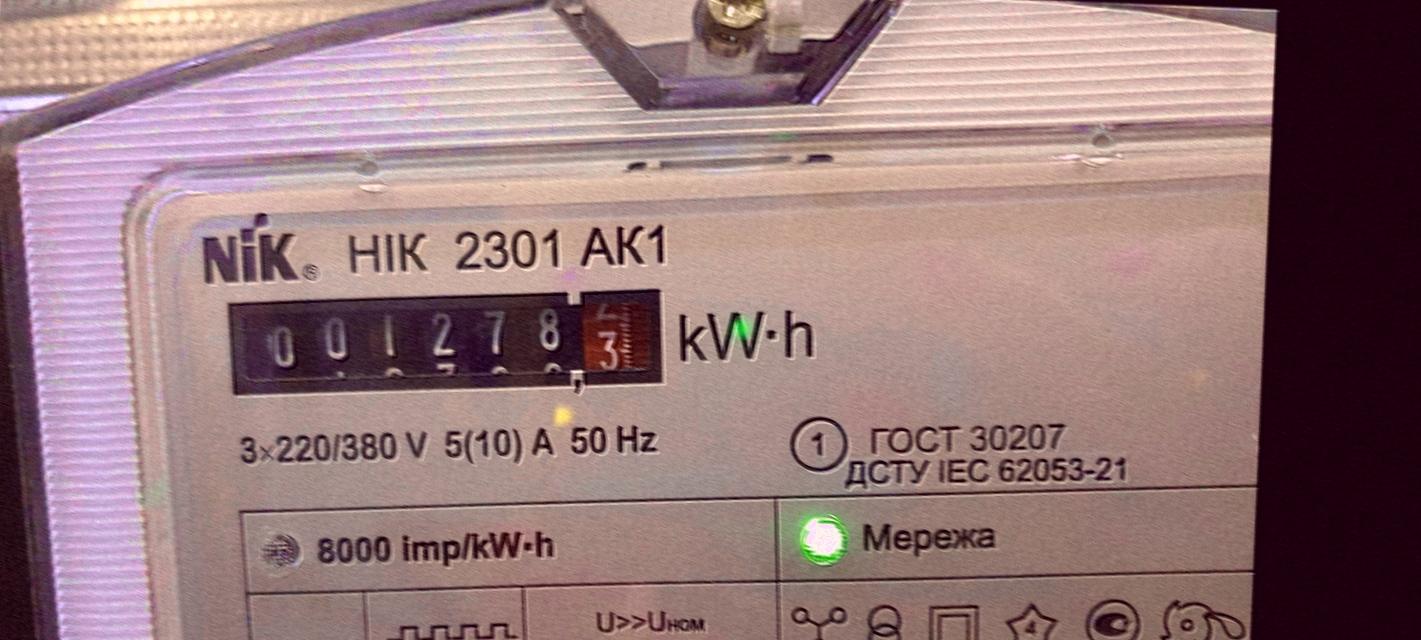0: (270, 320, 298, 369), (321, 314, 349, 361)
1: (379, 309, 400, 357)
2: (428, 310, 457, 358), (594, 300, 618, 320)
3: (594, 327, 622, 372)
7: (481, 307, 506, 355)
8: (536, 306, 562, 351)
screen: (209, 257, 684, 425)
